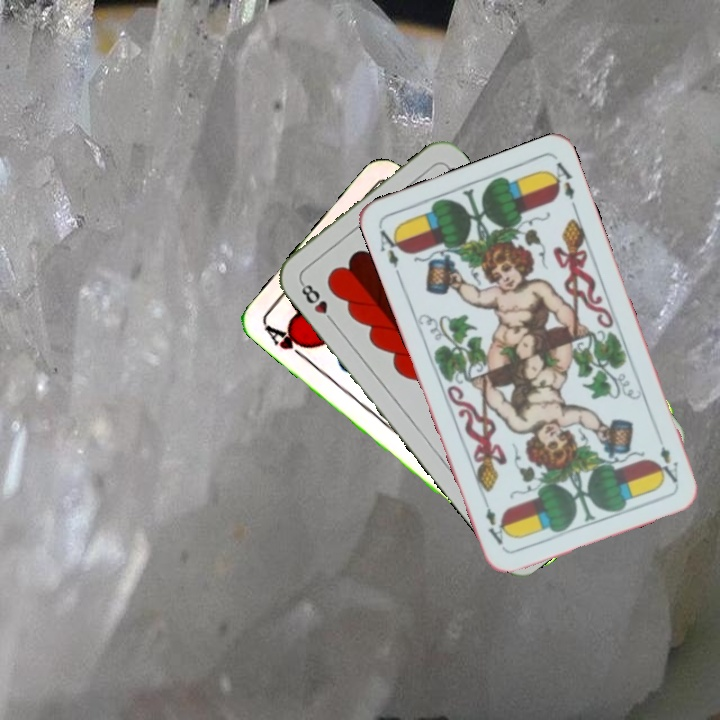EA: (375, 223, 406, 271), (654, 441, 681, 486)
H8: (296, 277, 338, 327)
HA: (260, 320, 314, 363)
